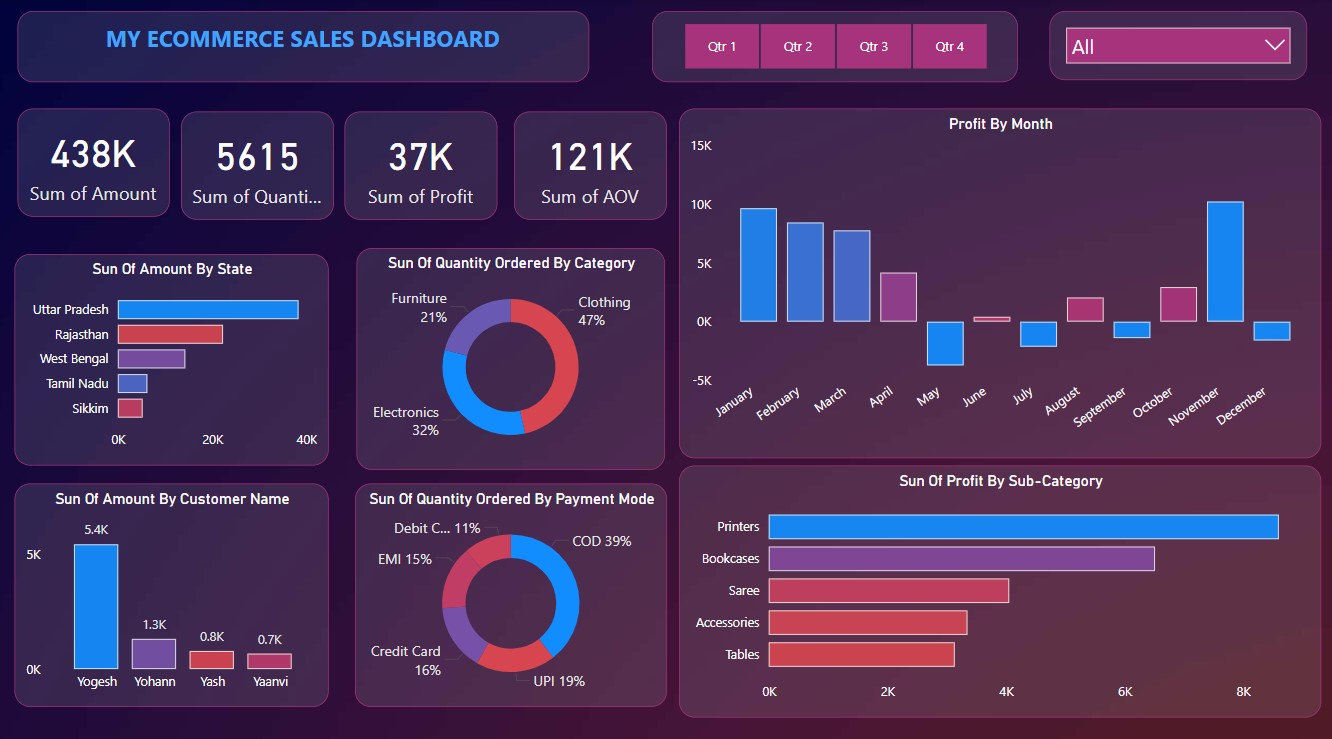

What the dashboard file says about the page in this screenshot:
{"tool":"powerbi","page":{"name":"SalesDashboard","canvas":[1280,720],"ordinal":0},"visuals":[{"type":"textbox","box":[22,11.9,545.8,67.8],"z":0},{"type":"columnChart","title":"Profit By Month","fields":{"Y":["Details.Profit"],"Category":["Orders.Order Date.Variation.Date Hierarchy.Month"]},"box":[652.5,105.1,613.6,333.9],"z":1000},{"type":"clusteredBarChart","title":"Sun Of Profit By Sub-Category","fields":{"Category":["Details.Sub-Category"],"Y":["Details.Profit"]},"box":[652.5,445.8,613.6,240.7],"z":2000},{"type":"donutChart","title":"Sun Of Quantity Ordered By Category","fields":{"Category":["Details.Category"],"Y":["Details.Quantity"]},"box":[345.8,237.3,294.9,211.9],"z":3000},{"type":"donutChart","title":"Sun Of Quantity Ordered By Payment Mode","fields":{"Y":["Details.Quantity"],"Category":["Details.PaymentMode"]},"box":[344.1,462.7,298.3,213.6],"z":4000},{"type":"card","fields":{"Values":["Details.Amount"]},"box":[22,105.1,145,103.4],"z":5000},{"type":"card","fields":{"Values":["Details.Quantity"]},"box":[178,106.8,145.8,103.4],"z":6000},{"type":"card","fields":{"Values":["Details.Profit"]},"box":[333.9,106.8,145.8,103.4],"z":7000},{"type":"card","fields":{"Values":["Details.AOV"]},"box":[494.9,106.8,145.8,103.4],"z":8000},{"type":"clusteredBarChart","title":"Sun Of Amount By State","fields":{"Category":["Orders.State"],"Y":["Details.Amount"]},"box":[18.6,244.1,300,201.7],"z":9000},{"type":"columnChart","title":"Sun Of Amount By Customer Name","fields":{"Y":["Details.Amount"],"Category":["Orders.CustomerName"]},"box":[18.6,462.7,300,213.6],"z":10000},{"type":"slicer","fields":{"Values":["Orders.Order Date.Variation.Date Hierarchy.Quarter"]},"box":[627.1,11.9,349.2,67.8],"z":11000},{"type":"slicer","fields":{"Values":["Orders.State"]},"box":[1006.8,11.9,245.8,66.1],"z":12000}]}

Visuals, with their boxes in screenshot pixels (x1, y1, x2, y2), scaled from the page's 1280x720 canvas onto the 1332x739 screenshot:
textbox: rect(23, 12, 591, 82)
"Profit By Month" columnChart: rect(679, 108, 1318, 451)
"Sun Of Profit By Sub-Category" clusteredBarChart: rect(679, 458, 1318, 705)
"Sun Of Quantity Ordered By Category" donutChart: rect(360, 244, 667, 461)
"Sun Of Quantity Ordered By Payment Mode" donutChart: rect(358, 475, 668, 694)
card - Details.Amount: rect(23, 108, 174, 214)
card - Details.Quantity: rect(185, 110, 337, 216)
card - Details.Profit: rect(347, 110, 499, 216)
card - Details.AOV: rect(515, 110, 667, 216)
"Sun Of Amount By State" clusteredBarChart: rect(19, 251, 332, 458)
"Sun Of Amount By Customer Name" columnChart: rect(19, 475, 332, 694)
slicer - Orders.Order Date.Variation.Date Hierarchy.Quarter: rect(653, 12, 1016, 82)
slicer - Orders.State: rect(1048, 12, 1303, 80)
